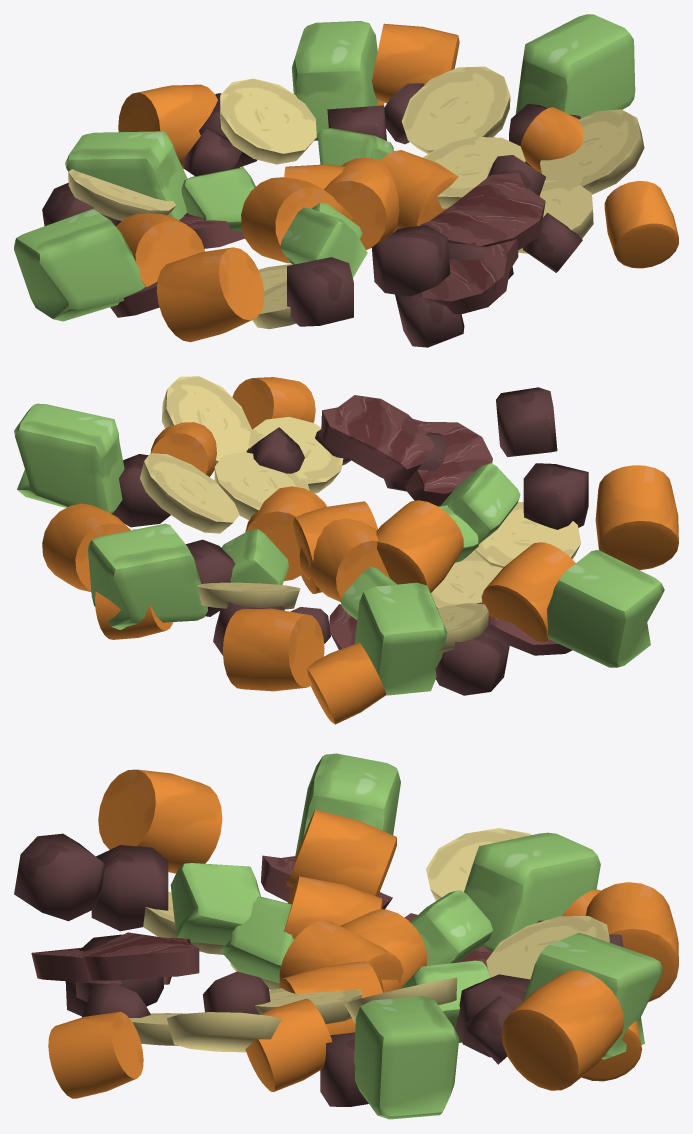
File: sopa2.glb
3 renders of one model, top to bottom at view 1: azimuth 30°, elevation 25°; view 2: azimuth 150°, elevation 25°; view 3: azimuth 270°, elevation 25°, orthographic. The views are drawn at different scales.
Visible parts, largest first — view 1: pCube1_lambert1_0.003, pCube1_lambert1_0.001, pCylinder6_lambert1_0.003, pCube1_lambert1_0.002, pCylinder3_lambert1_0.002, pCylinder3, pCube1, pCylinder4_lambert1_0.003, pCylinder3_lambert1_0.001, pCylinder7_lambert1_0.001, pCylinder6_lambert1_0.001, pCylinder6_lambert1_0.002 (+29 smaller); view 2: pCube1_lambert1_0.003, pCube1_lambert1_0.001, pCube1_lambert1_0.002, pCube1, pCylinder6_lambert1_0.003, pCylinder6_lambert1_0.002, pCylinder4_lambert1_0.003, pCylinder2_lambert1_0.003, pCylinder6, pCylinder3_lambert1_0.002, pCylinder3_lambert1_0.001, pCylinder2_lambert1_0.002 (+28 smaller); view 3: pCube1_lambert1_0.001, pCylinder6_lambert1_0.001, pCube1, pCylinder6_lambert1_0.003, pCylinder7_lambert1_0.001, pCube1_lambert1_0.002, pCylinder6, pCube2_lambert1_0.003, pCube4_lambert1_0.003, pCube1_lambert1_0.003, pCylinder6_lambert1_0.002, pCube2 (+25 smaller).
Boxes of the visible parts, x1=… form: pCube1_lambert1_0.003: x1=14, y1=209, x2=145, y2=321; pCube1_lambert1_0.001: x1=515, y1=14, x2=635, y2=118; pCylinder6_lambert1_0.003: x1=156, y1=247, x2=264, y2=342; pCube1_lambert1_0.002: x1=292, y1=21, x2=378, y2=140; pCylinder3_lambert1_0.002: x1=401, y1=66, x2=510, y2=153; pCylinder3: x1=220, y1=78, x2=316, y2=164; pCube1: x1=65, y1=131, x2=187, y2=221; pCylinder4_lambert1_0.003: x1=420, y1=172, x2=545, y2=250; pCylinder3_lambert1_0.001: x1=540, y1=109, x2=644, y2=194; pCylinder7_lambert1_0.001: x1=604, y1=181, x2=678, y2=268; pCylinder6_lambert1_0.001: x1=372, y1=23, x2=459, y2=103; pCylinder6_lambert1_0.002: x1=118, y1=84, x2=217, y2=168; pCube1_lambert1_0.003: x1=547, y1=550, x2=664, y2=667; pCube1_lambert1_0.001: x1=14, y1=403, x2=124, y2=513; pCube1_lambert1_0.002: x1=88, y1=523, x2=207, y2=629; pCube1: x1=354, y1=582, x2=447, y2=695; pCylinder6_lambert1_0.003: x1=595, y1=465, x2=678, y2=570; pCylinder6_lambert1_0.002: x1=223, y1=608, x2=324, y2=691; pCylinder4_lambert1_0.003: x1=321, y1=395, x2=434, y2=482; pCylinder2_lambert1_0.003: x1=376, y1=500, x2=463, y2=592; pCylinder6: x1=481, y1=542, x2=575, y2=642; pCylinder3_lambert1_0.002: x1=140, y1=453, x2=239, y2=533; pCylinder3_lambert1_0.001: x1=161, y1=376, x2=251, y2=464; pCylinder2_lambert1_0.002: x1=299, y1=518, x2=389, y2=601; pCube1_lambert1_0.001: x1=354, y1=996, x2=459, y2=1119; pCylinder6_lambert1_0.001: x1=501, y1=970, x2=624, y2=1090; pCube1: x1=464, y1=832, x2=600, y2=952; pCylinder6_lambert1_0.003: x1=98, y1=769, x2=222, y2=873; pCylinder7_lambert1_0.001: x1=48, y1=1012, x2=143, y2=1098; pCube1_lambert1_0.002: x1=522, y1=933, x2=663, y2=1059; pCylinder6: x1=286, y1=809, x2=396, y2=896; pCube2_lambert1_0.003: x1=14, y1=833, x2=105, y2=921; pCube4_lambert1_0.003: x1=170, y1=863, x2=260, y2=945; pCube1_lambert1_0.003: x1=295, y1=753, x2=400, y2=856; pCylinder6_lambert1_0.002: x1=585, y1=882, x2=678, y2=1001; pCube2: x1=91, y1=845, x2=168, y2=931.
Bounding box in the file's own units: 13.94 × 3.34 × 11.25.
4 materials, 4 textured.
